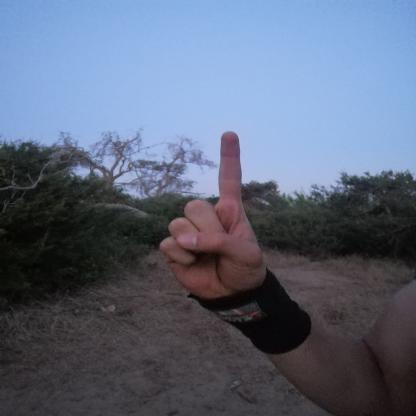BAA: (147, 127, 281, 313)
